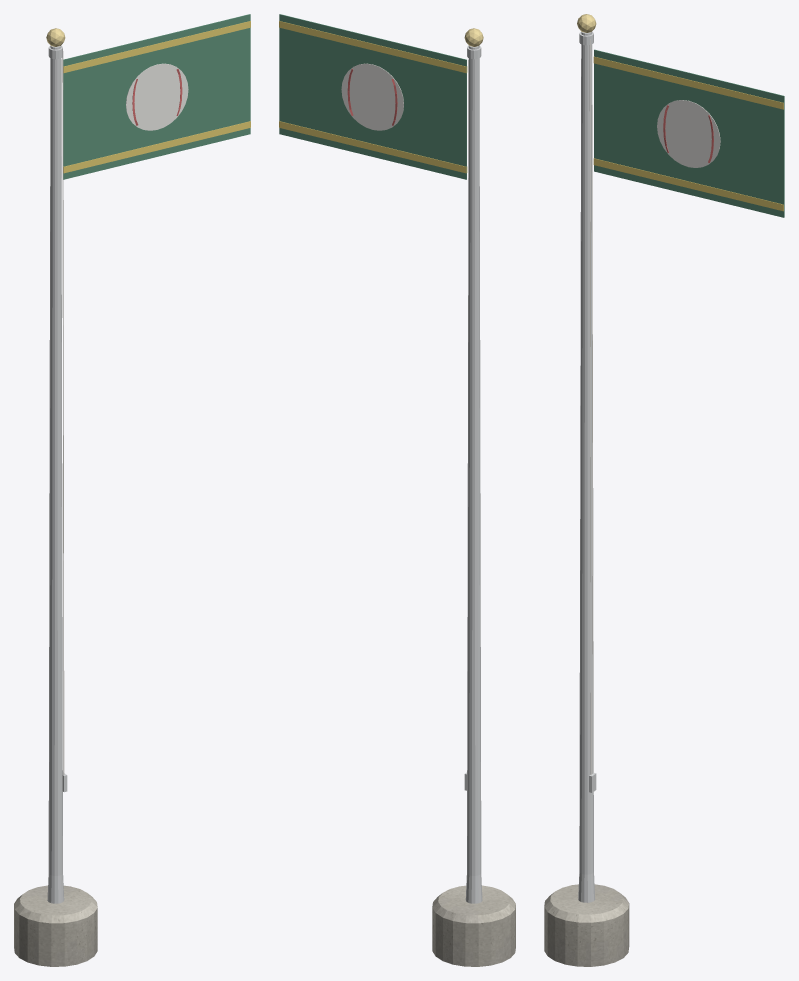
Rendered from flagpole.glb.
3 renders of one model, left to right at view 1: azimuth 30°, elevation 25°; view 2: azimuth 150°, elevation 25°; view 3: azimuth 330°, elevation 25°, orthographic.
Parts seen in each view (by area): view 1: flagpole_pad_g, flagpole_alu, flagpole_concrete, flagpole_ball, flagpole_pad_y, flagpole_paper; view 2: flagpole_pad_g, flagpole_alu, flagpole_concrete, flagpole_ball, flagpole_pad_y; view 3: flagpole_pad_g, flagpole_alu, flagpole_concrete, flagpole_ball, flagpole_pad_y, flagpole_paper.
Boxes of the visible parts, x1,y1,x2,y2 form: flagpole_pad_g: [63, 14, 250, 179]; flagpole_alu: [47, 45, 67, 903]; flagpole_concrete: [14, 885, 97, 966]; flagpole_ball: [126, 63, 188, 130]; flagpole_pad_y: [63, 21, 250, 173]; flagpole_paper: [61, 51, 64, 774]; flagpole_pad_g: [279, 14, 466, 179]; flagpole_alu: [464, 45, 482, 903]; flagpole_concrete: [432, 885, 515, 966]; flagpole_ball: [341, 63, 403, 130]; flagpole_pad_y: [279, 21, 467, 173]; flagpole_pad_g: [594, 49, 784, 217]; flagpole_alu: [578, 31, 596, 902]; flagpole_concrete: [544, 884, 629, 966]; flagpole_ball: [657, 100, 720, 167]; flagpole_pad_y: [593, 56, 783, 211]; flagpole_paper: [589, 39, 593, 774].
Size of the model in its own units: 2.22 by 8.45 by 0.7.
8 materials, 1 textured.
